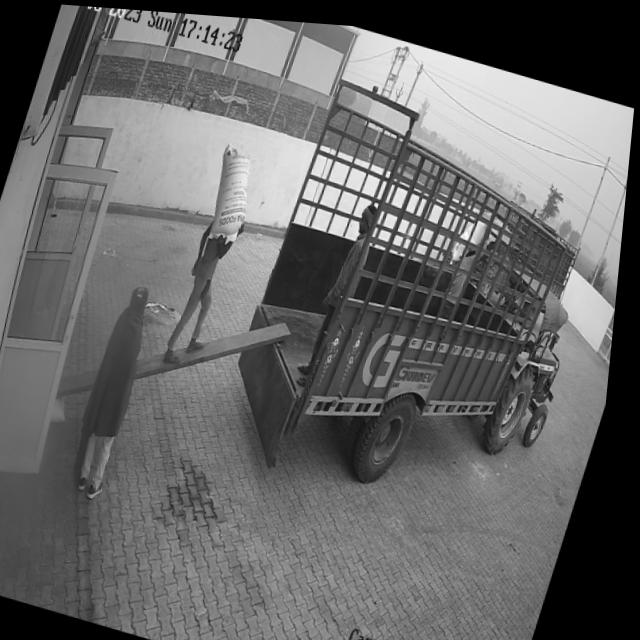sack: (202, 137, 268, 240)
